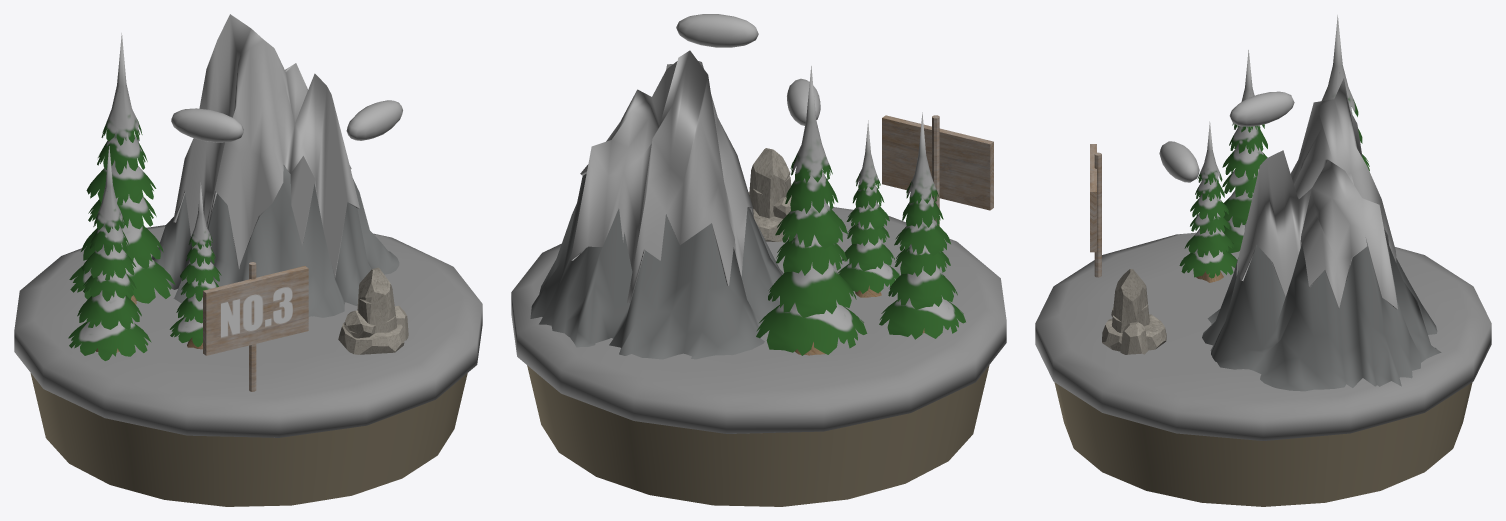
Rendered from StageModel3.fbx.
The picture shows the model from 3 angles, left to right: view 1: azimuth 30°, elevation 25°; view 2: azimuth 150°, elevation 25°; view 3: azimuth 270°, elevation 25°; orthographic projection. The views are drawn at different scales.
Visible parts, largest first — view 1: map3; view 2: map3; view 3: map3.
Boxes of the visible parts, left/top/right/bottom form: map3: left=14, top=14, right=482, bottom=506; map3: left=511, top=14, right=1006, bottom=506; map3: left=1035, top=15, right=1491, bottom=506.
Size of the model in its own units: 9.86 by 8.76 by 9.86.
